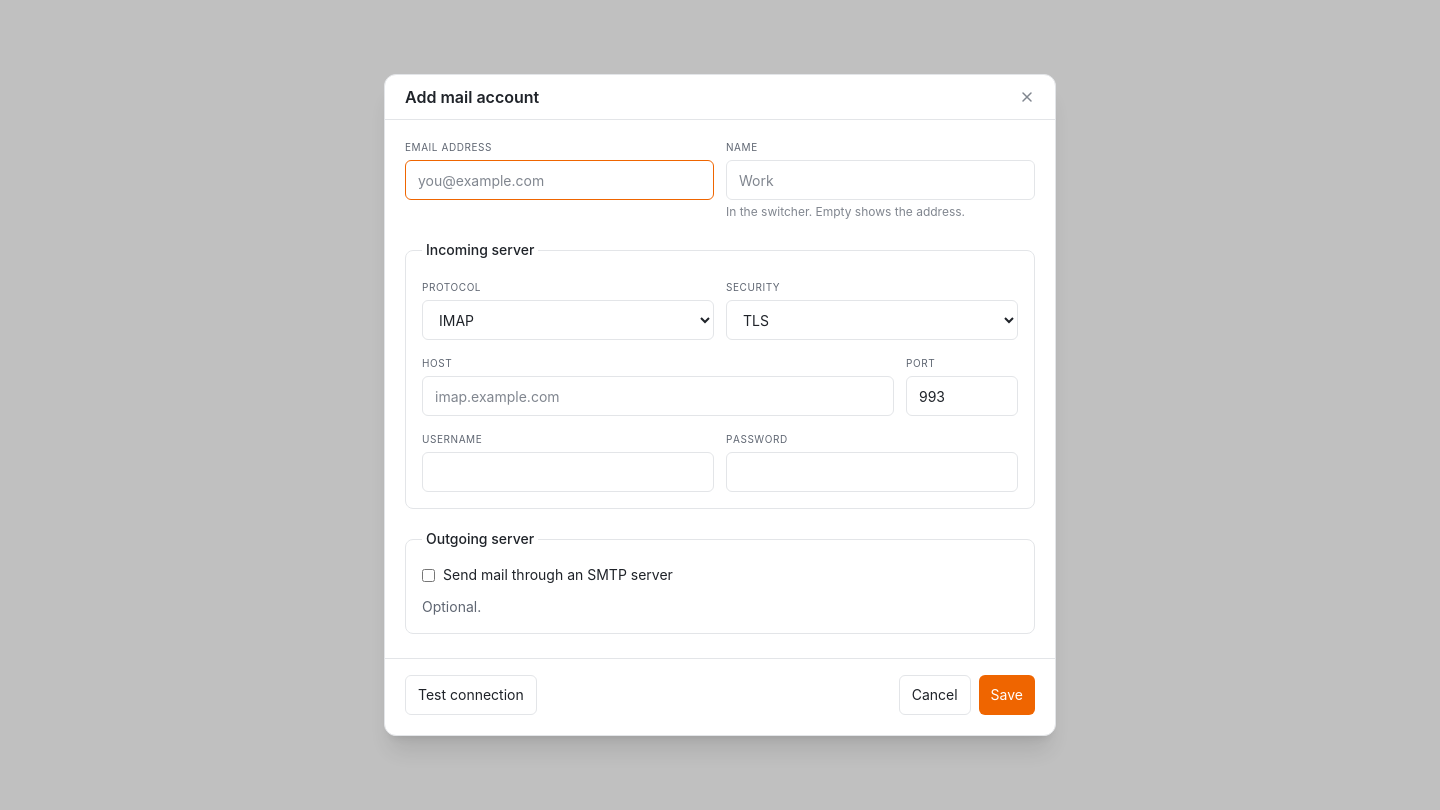
Test: looking up a new config's servers › says when the provider signs in only with OAuth
The image size is (1440, 810).
Type "misha@outlook.com" into the field labelled "Email address".
click(560, 180); type("misha@outlook.com")  # box [405,160,714,200]
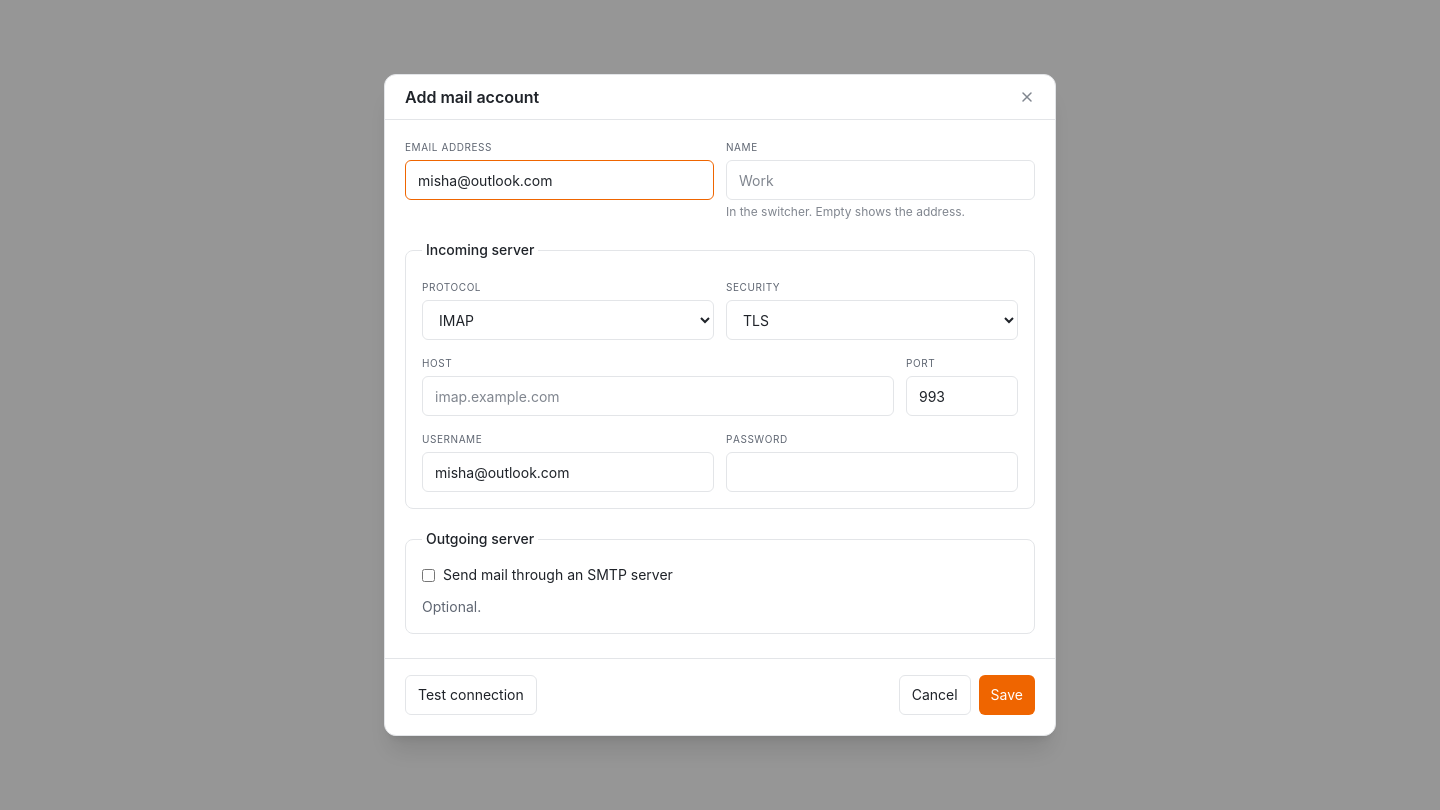
Leave the field labelled "Email address", box [405,160,714,200]
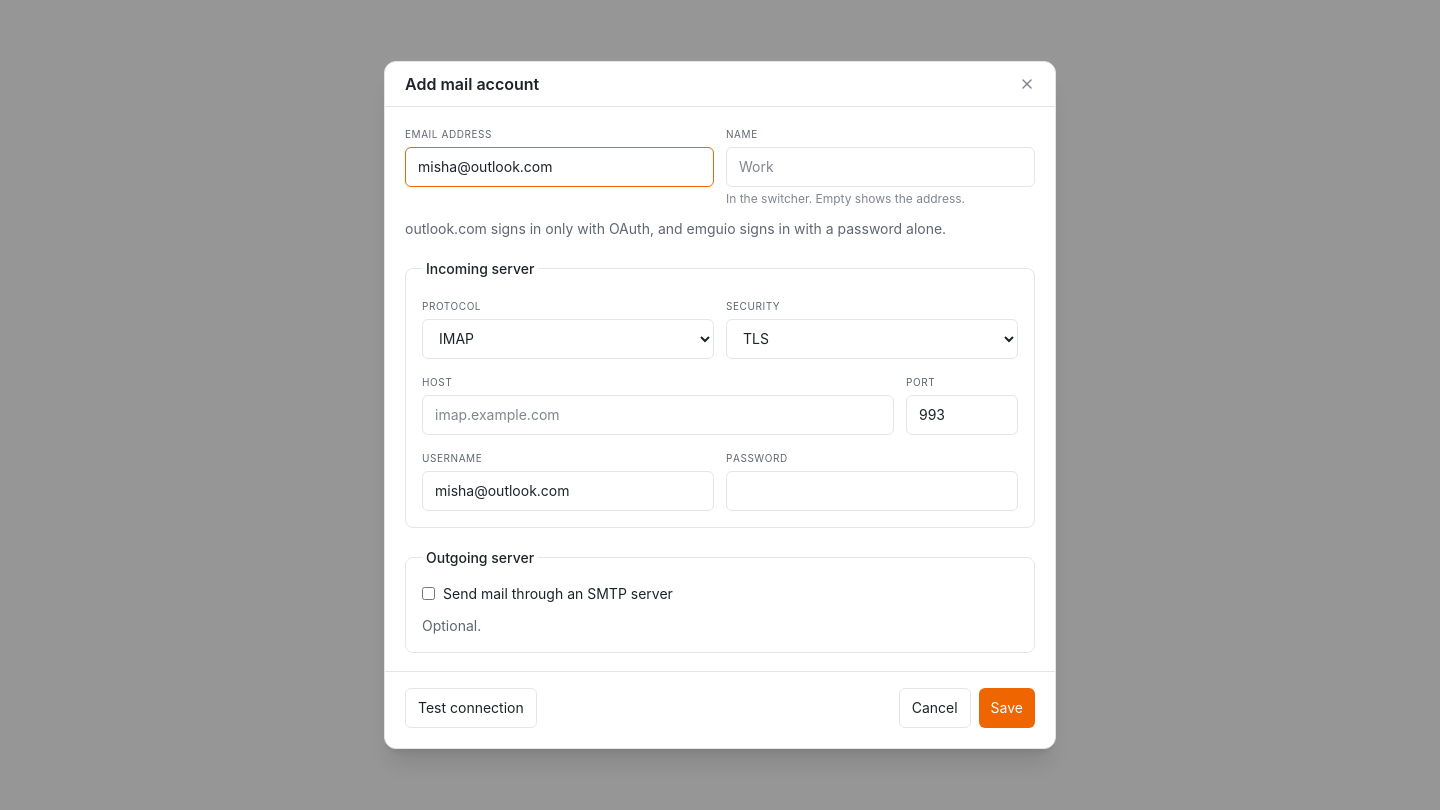
Expected: the text "outlook.com signs in only with OAuth, and emguio signs in with a password alone." is shown, [405,219,1035,239]
